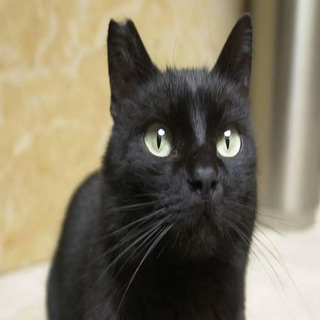gato: (76, 8, 283, 318)
